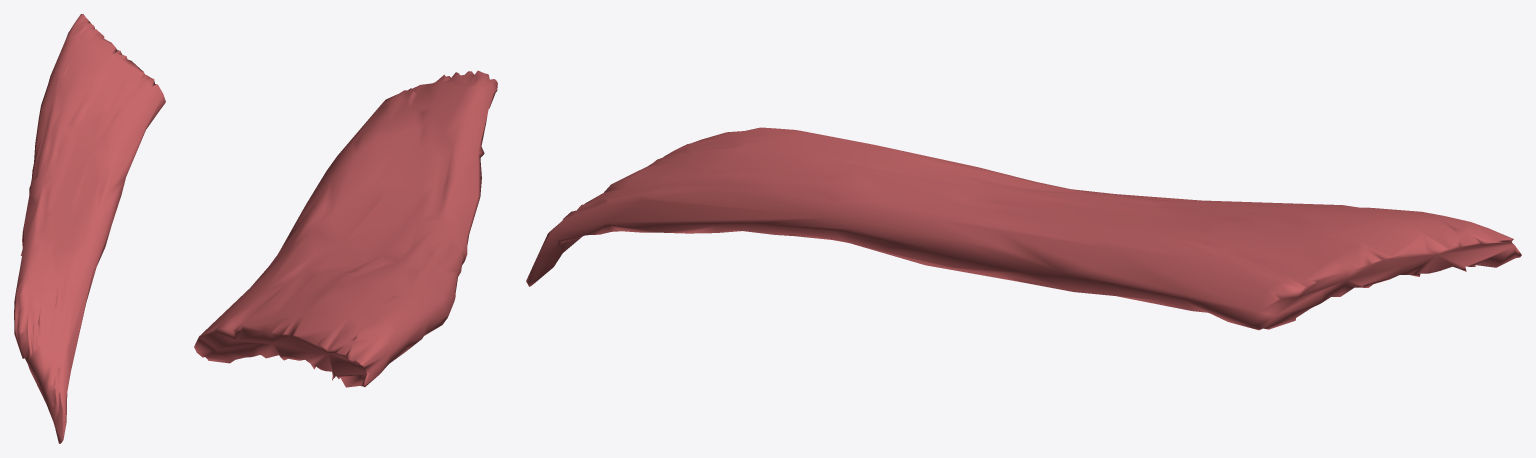
3 renders of one model, left to right at view 1: azimuth 30°, elevation 25°; view 2: azimuth 210°, elevation 25°; view 3: azimuth 270°, elevation 25°, orthographic. The views are drawn at different scales.
Visible parts, largest first — view 1: 左侧小菱形肌; view 2: 左侧小菱形肌; view 3: 左侧小菱形肌.
Boxes of the visible parts, x1,y1,x2,y2 form: 左侧小菱形肌: [14, 14, 165, 443]; 左侧小菱形肌: [194, 70, 497, 387]; 左侧小菱形肌: [526, 127, 1521, 330].
Bounding box in the file's own units: 0.0963 × 0.0511 × 0.1489.
